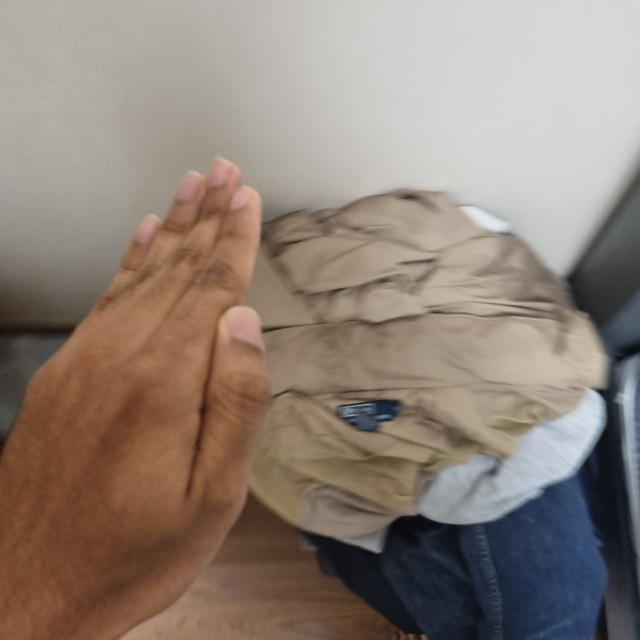Paper: (0, 157, 597, 632)
